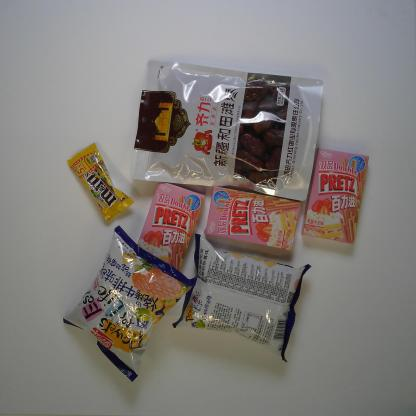Chocolate: (66, 143, 135, 225)
Dessert: (300, 147, 370, 247), (137, 181, 205, 277), (204, 186, 302, 252)
Dried Food: (132, 60, 324, 202)
Puffed Food: (62, 225, 199, 384), (172, 233, 312, 364)
